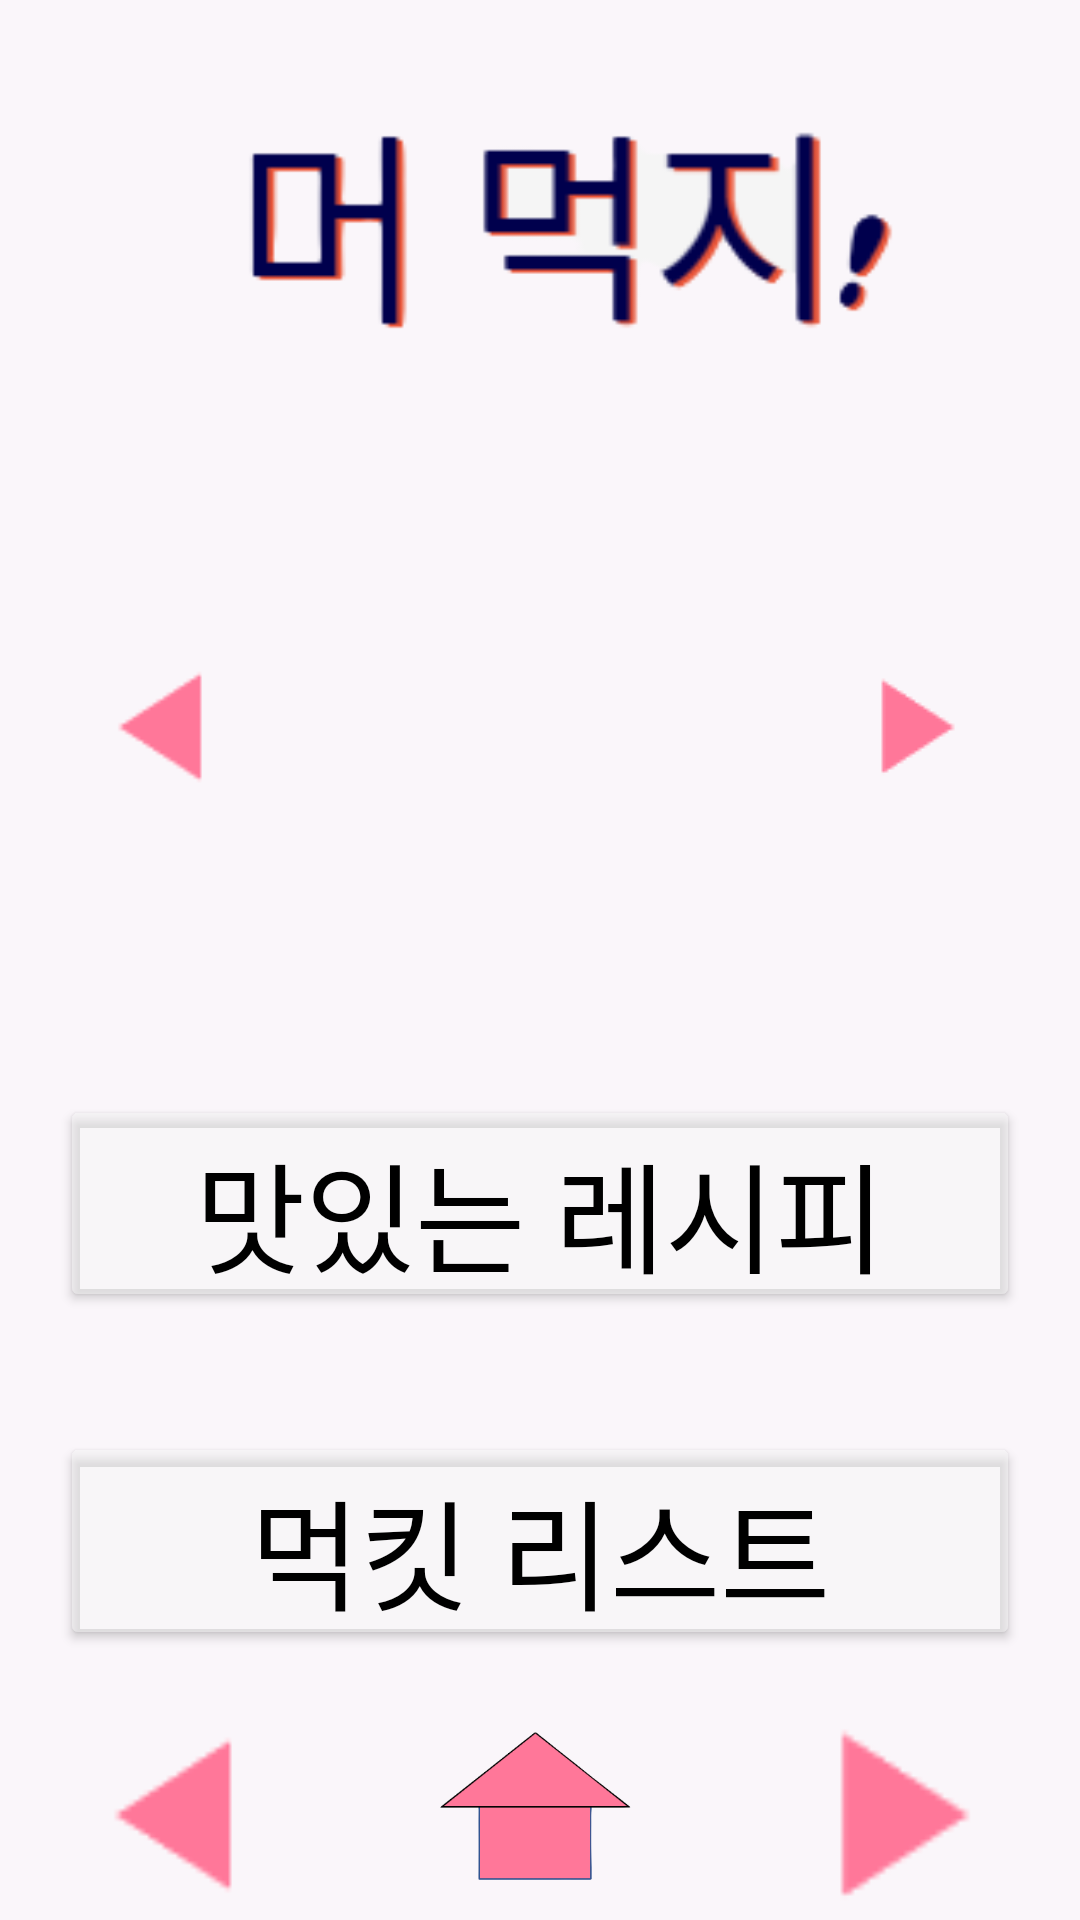

Icons on this 1080x1920 Android screen, each with its box as (x1, y1, x2, y2):
back: (119, 674, 202, 780), (116, 1741, 232, 1889)
home: (440, 1732, 630, 1880)
